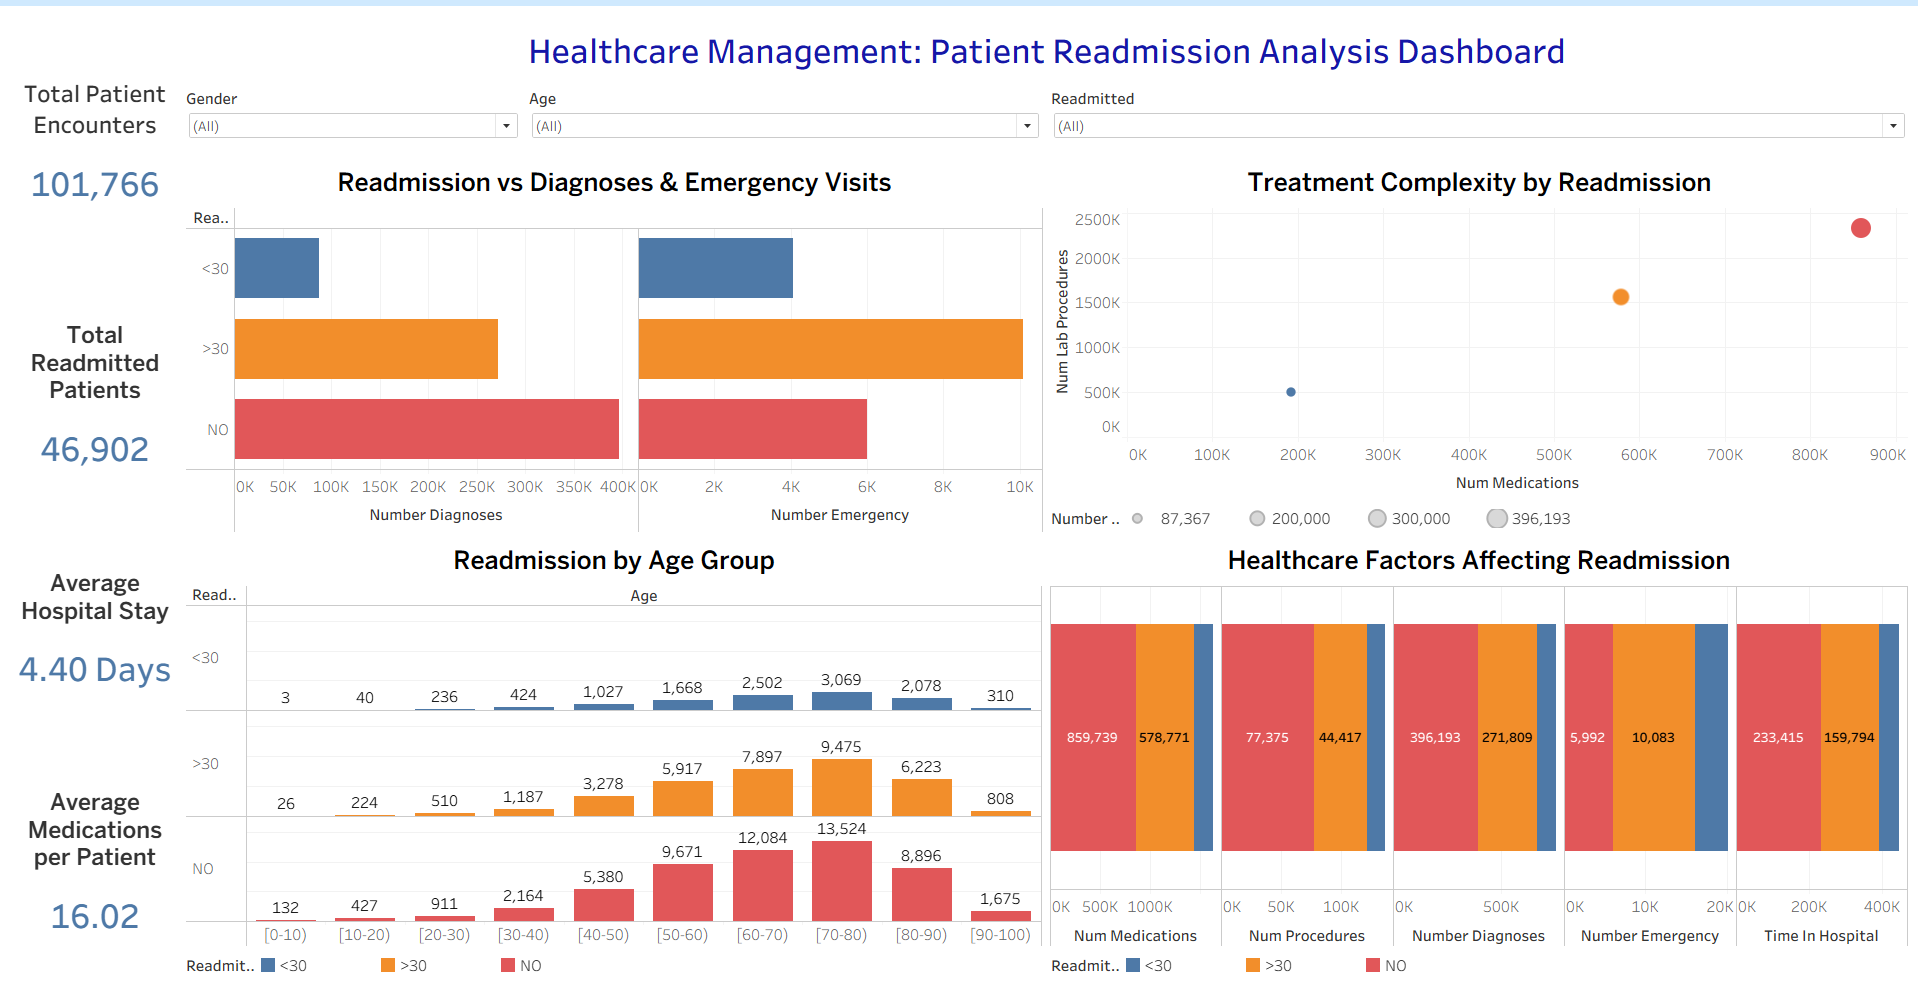

The page's visual inventory and layout, read from the dashboard file:
{"tool":"tableau","page":{"name":"Dashboard 1","canvas":[1000,1000],"units":"permille","ordinal":0},"visuals":[{"type":"worksheet","title":"Sheet 6","mark":"Automatic","box":[4.8,10,90.5,238.9]},{"type":"title","box":[95.3,10,899.9,87.4]},{"type":"filter","title":"Sheet 1","param":"[federated.0fob5ym1qfifjw1e7ruz302d7ejl].[none:gender:nk]","box":[95.3,97.4,170.2,73.6]},{"type":"filter","title":"Sheet 1","param":"[federated.0fob5ym1qfifjw1e7ruz302d7ejl].[none:age:nk]","box":[265.5,97.4,279.6,73.6]},{"type":"filter","title":"Sheet 1","param":"[federated.0fob5ym1qfifjw1e7ruz302d7ejl].[none:readmitted:nk]","box":[545.1,97.4,450.1,73.6]},{"type":"worksheet","title":"Sheet 1","mark":"Automatic","rows":["readmitted"],"cols":["number_diagnoses","number_emergency"],"box":[95.3,171,449.8,372.5]},{"type":"worksheet","title":"Sheet 5","mark":"Circle","rows":["num_lab_procedures"],"cols":["num_medications"],"box":[545.1,171,450.1,339.5]},{"type":"worksheet","title":"Sheet 7","mark":"Automatic","box":[4.8,248.8,90.5,238.9]},{"type":"worksheet","title":"Sheet 8","mark":"Automatic","box":[4.8,487.7,90.5,263.4]},{"type":"legend","title":"Sheet 5","param":"[federated.0fob5ym1qfifjw1e7ruz302d7ejl].[sum:number_diagnoses:qk]","box":[545.1,510.5,450.1,33]},{"type":"worksheet","title":"Sheet 3","mark":"Automatic","rows":["readmitted","number_inpatient"],"cols":["age"],"box":[95.3,543.5,449.6,407.2]},{"type":"worksheet","title":"Sheet 4","mark":"Automatic","cols":["num_medications","num_procedures","number_diagnoses","number_emergency","time_in_hospital"],"box":[545,543.5,450.2,407.2]},{"type":"worksheet","title":"Sheet 9","mark":"Automatic","box":[4.8,751.1,90.5,238.9]},{"type":"legend","title":"Sheet 3","param":"[federated.0fob5ym1qfifjw1e7ruz302d7ejl].[none:readmitted:nk]","box":[95.3,950.7,449.8,39.3]},{"type":"legend","title":"Sheet 5","param":"[federated.0fob5ym1qfifjw1e7ruz302d7ejl].[none:readmitted:nk]","box":[545.1,950.7,450.1,39.3]}]}

Visuals, with their boxes on the dashboard's canvas, which has no fixed pixel size, in thousandths of its width and height (x1, y1, x2, y2). These are canvas units, not pixel positions in the 1918x998 screenshot, which may show the page scaled, cropped or inside an application window:
"Sheet 6" worksheet: {"x1": 5, "y1": 10, "x2": 95, "y2": 249}
title: {"x1": 95, "y1": 10, "x2": 995, "y2": 97}
"Sheet 1" filter: {"x1": 95, "y1": 97, "x2": 266, "y2": 171}
"Sheet 1" filter: {"x1": 266, "y1": 97, "x2": 545, "y2": 171}
"Sheet 1" filter: {"x1": 545, "y1": 97, "x2": 995, "y2": 171}
"Sheet 1" worksheet: {"x1": 95, "y1": 171, "x2": 545, "y2": 544}
"Sheet 5" worksheet (Circle marks): {"x1": 545, "y1": 171, "x2": 995, "y2": 510}
"Sheet 7" worksheet: {"x1": 5, "y1": 249, "x2": 95, "y2": 488}
"Sheet 8" worksheet: {"x1": 5, "y1": 488, "x2": 95, "y2": 751}
"Sheet 5" legend: {"x1": 545, "y1": 510, "x2": 995, "y2": 544}
"Sheet 3" worksheet: {"x1": 95, "y1": 544, "x2": 545, "y2": 951}
"Sheet 4" worksheet: {"x1": 545, "y1": 544, "x2": 995, "y2": 951}
"Sheet 9" worksheet: {"x1": 5, "y1": 751, "x2": 95, "y2": 990}
"Sheet 3" legend: {"x1": 95, "y1": 951, "x2": 545, "y2": 990}
"Sheet 5" legend: {"x1": 545, "y1": 951, "x2": 995, "y2": 990}
